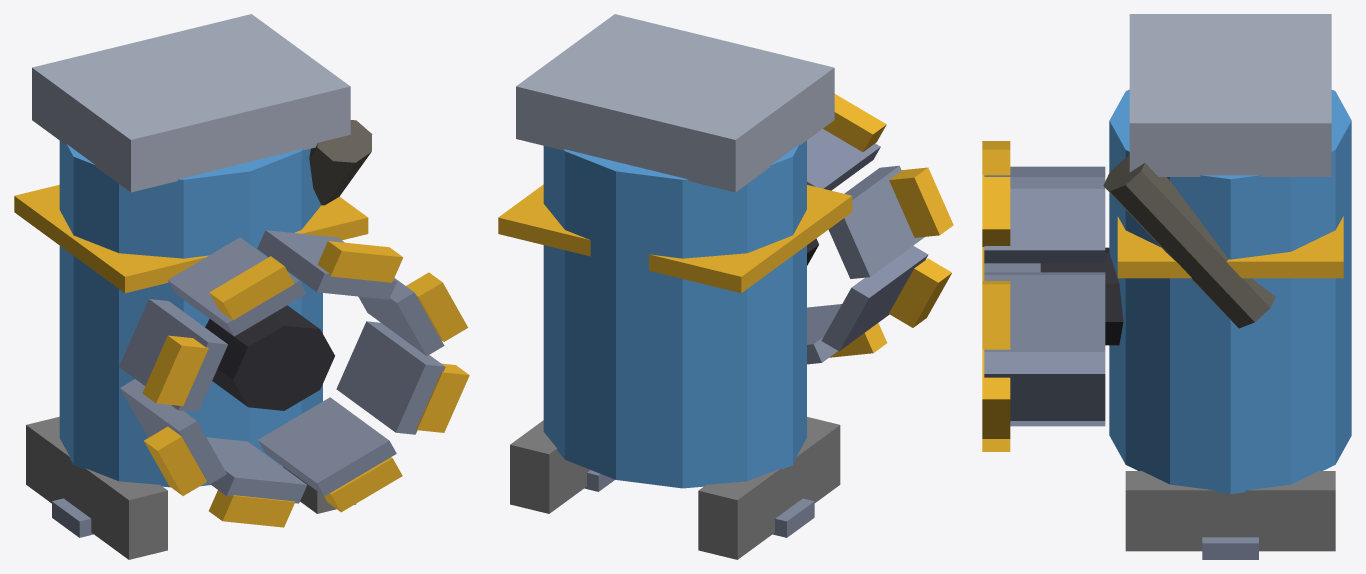
File: vacuum_station.glb
3 renders of one model, left to right at view 1: azimuth 30°, elevation 25°; view 2: azimuth 150°, elevation 25°; view 3: azimuth 270°, elevation 25°, orthographic. The views are drawn at different scales.
Visible parts, largest first — view 1: vacuum_station; view 2: vacuum_station; view 3: vacuum_station.
Boxes of the visible parts, x1,y1,x2,y2 form: vacuum_station: [14, 14, 469, 559]; vacuum_station: [498, 14, 953, 559]; vacuum_station: [982, 14, 1351, 559].
Size of the model in its own units: 1 by 1.28 by 1.
